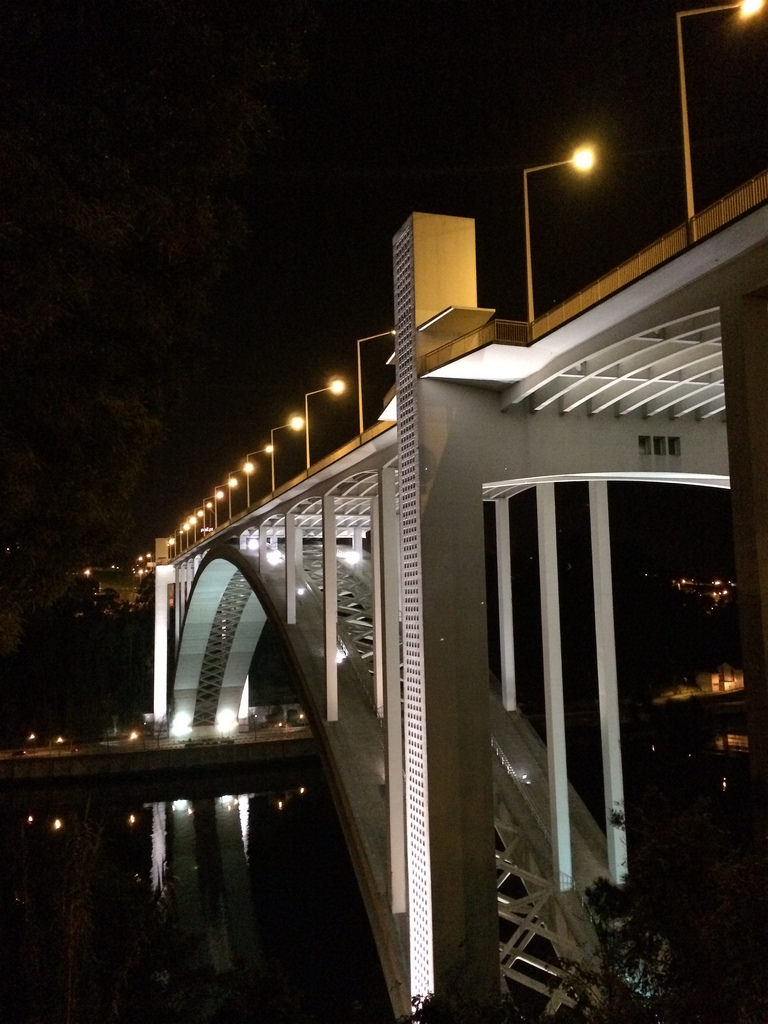arrabida: (155, 195, 767, 1023)
